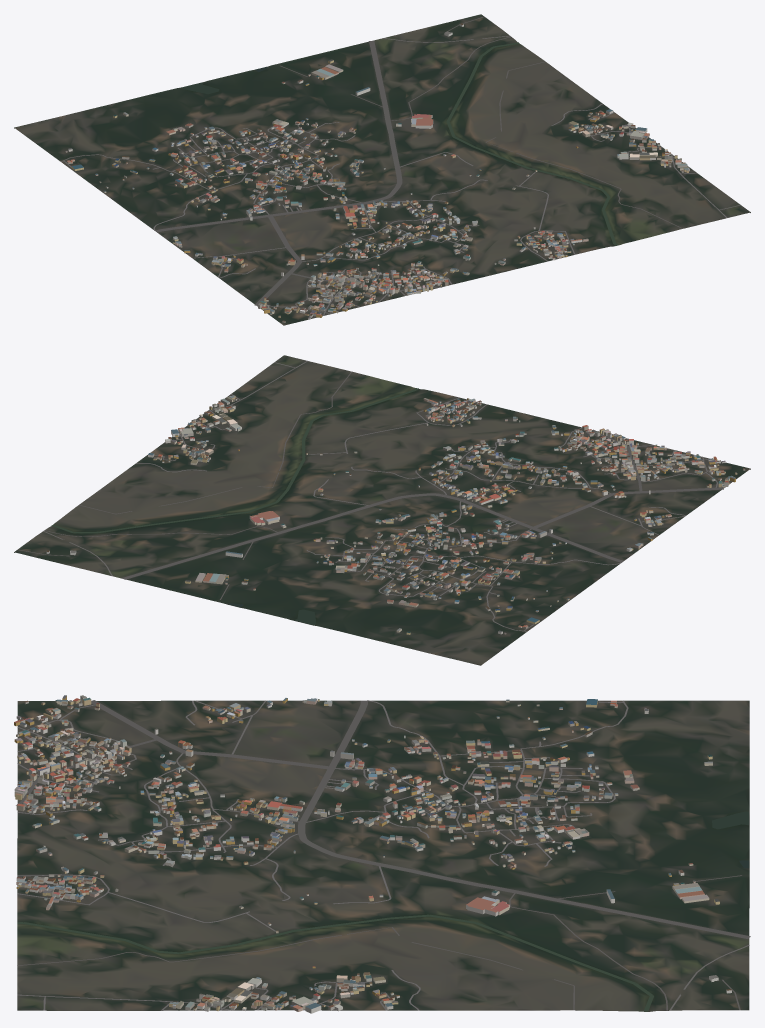
3 views of the same model, one above another, from view 1: azimuth 30°, elevation 25°; view 2: azimuth 150°, elevation 25°; view 3: azimuth 270°, elevation 25° (orthographic). The views are drawn at different scales.
Visible parts, largest first — view 1: ground, buildings, roads, water; view 2: ground, buildings, roads, water; view 3: ground, buildings, roads, water.
Boxes of the visible parts, left/top/right/bottom form: ground: left=14, top=14, right=750, bottom=325; buildings: left=65, top=23, right=689, bottom=322; roads: left=60, top=16, right=740, bottom=315; water: left=181, top=42, right=617, bottom=245; ground: left=14, top=355, right=750, bottom=665; buildings: left=46, top=395, right=745, bottom=634; roads: left=17, top=361, right=723, bottom=631; water: left=51, top=388, right=418, bottom=625; ground: left=17, top=700, right=749, bottom=1011; buildings: left=14, top=695, right=731, bottom=1013; roads: left=16, top=700, right=750, bottom=1010; water: left=17, top=811, right=748, bottom=1011.
Size of the model in its own units: 1421 by 21.78 by 1411.
